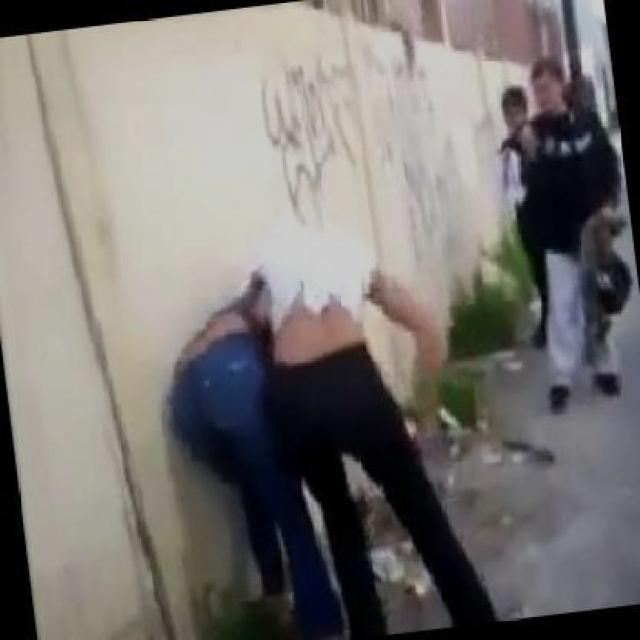fight: (77, 212, 511, 638)
non-fight: (471, 41, 638, 428)
